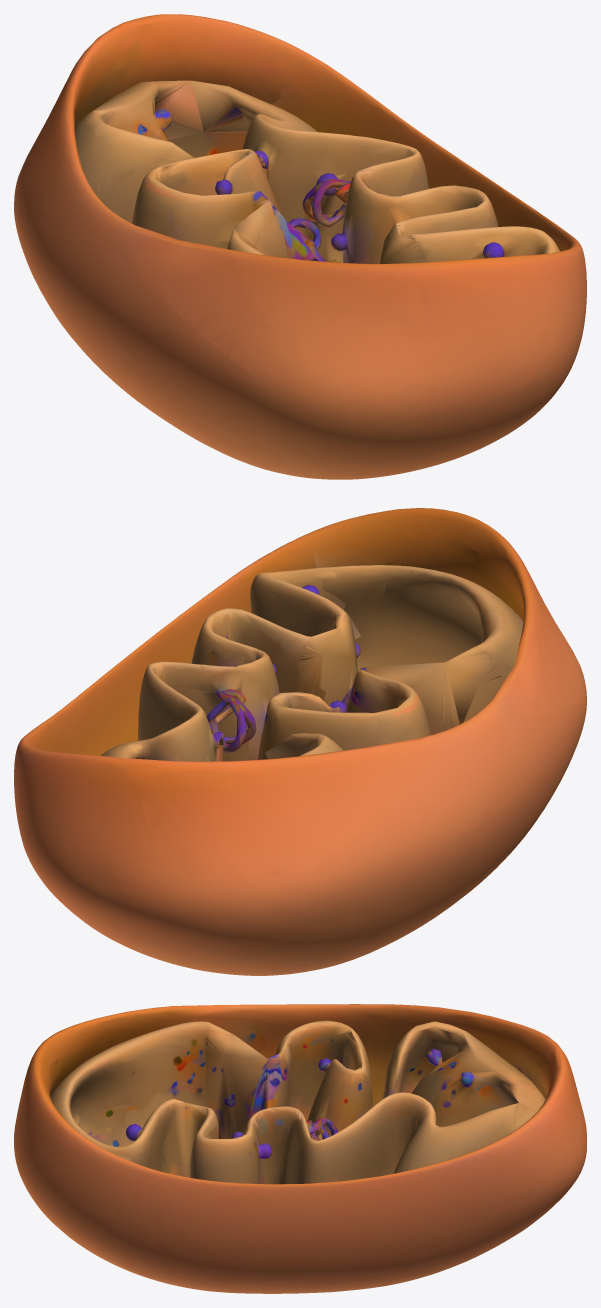
Rendered from mitochondria.glb.
The picture shows the model from 3 angles, top to bottom: view 1: azimuth 30°, elevation 25°; view 2: azimuth 150°, elevation 25°; view 3: azimuth 270°, elevation 25°; orthographic projection. The views are drawn at different scales.
Parts seen in each view (by area): view 1: kaedim_mesh_1; view 2: kaedim_mesh_1; view 3: kaedim_mesh_1.
Part boxes in pixels (bbox=[...]): kaedim_mesh_1: bbox=[14, 14, 586, 479]; kaedim_mesh_1: bbox=[14, 508, 586, 975]; kaedim_mesh_1: bbox=[14, 1004, 586, 1293].
Size of the model in its own units: 3 by 2 by 4.7.
1 material, 1 textured.
